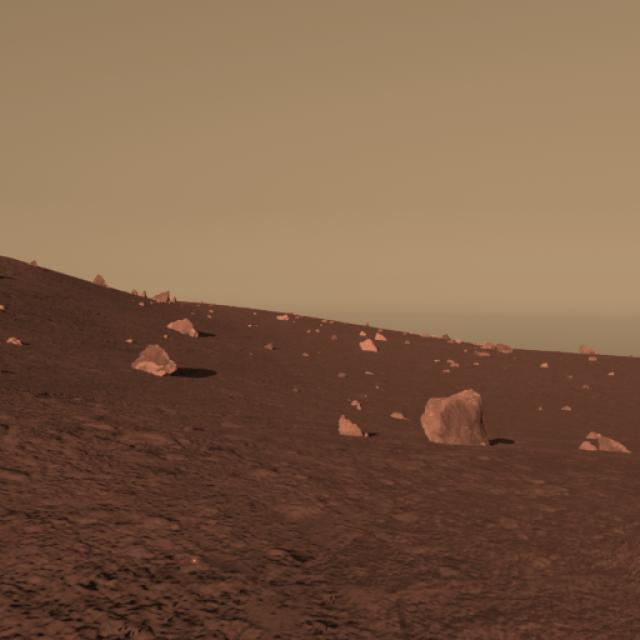rock: (418, 388, 484, 447), (132, 340, 183, 382)
